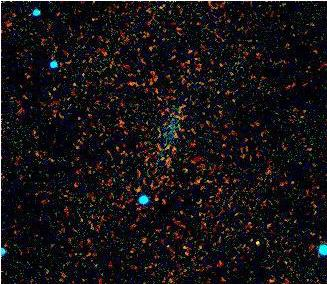star: (241, 230, 271, 260)
